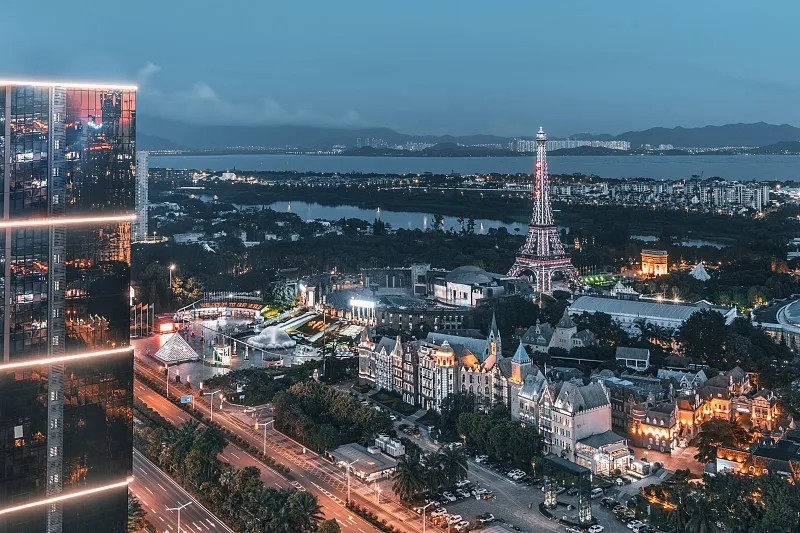Eiffel: (505, 126, 583, 296)
